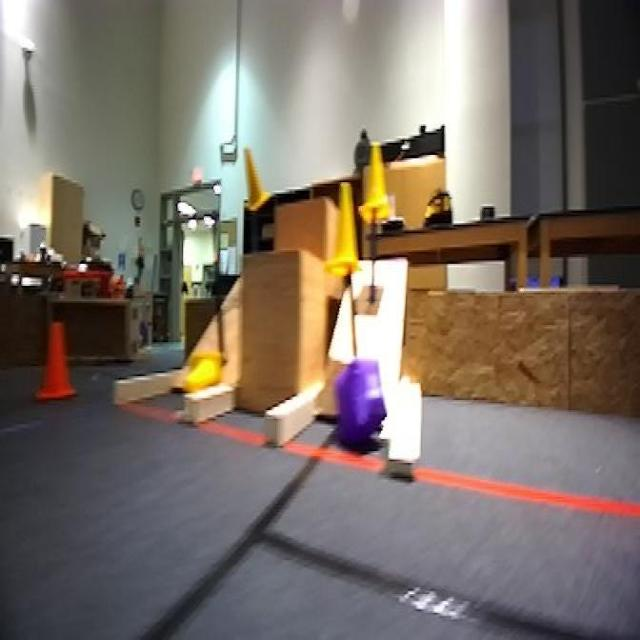frc_cone: (328, 182, 363, 274), (361, 143, 394, 225), (241, 148, 269, 218), (183, 351, 224, 395)
frc_cube: (328, 358, 382, 439)
